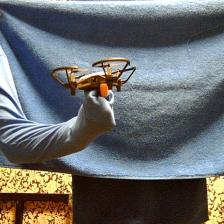drone: (52, 55, 138, 96)
